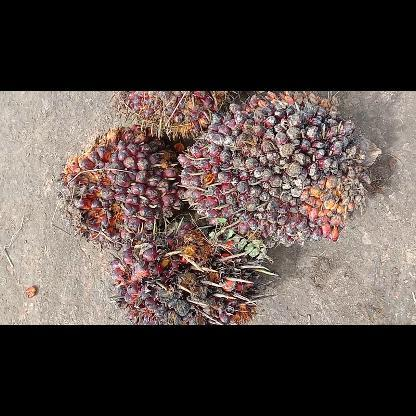Kurang masak: (176, 92, 385, 254), (110, 92, 240, 142)
TBS masak: (107, 216, 281, 324), (58, 122, 190, 254)
